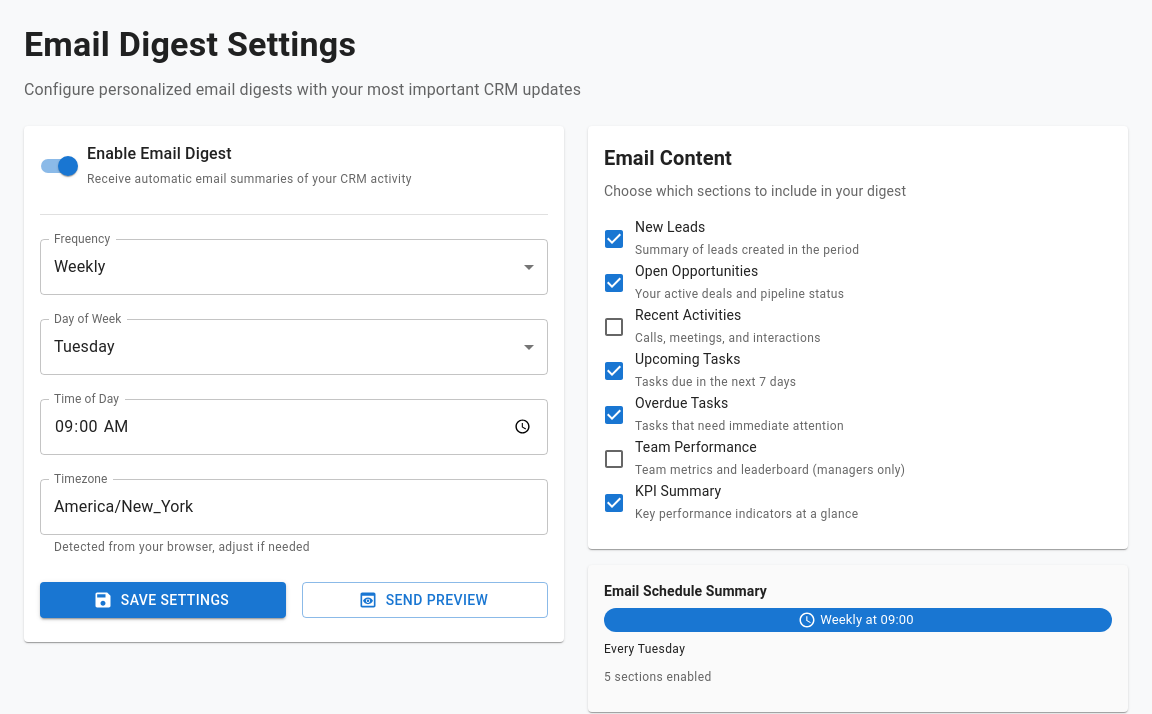
it: EmailDigestPage › saves the config via the backend when Save Settings is clicked
The width and height of the screenshot is (1152, 714).
Click the button "Save Settings".
click(163, 600)  # box [40,582,286,618]
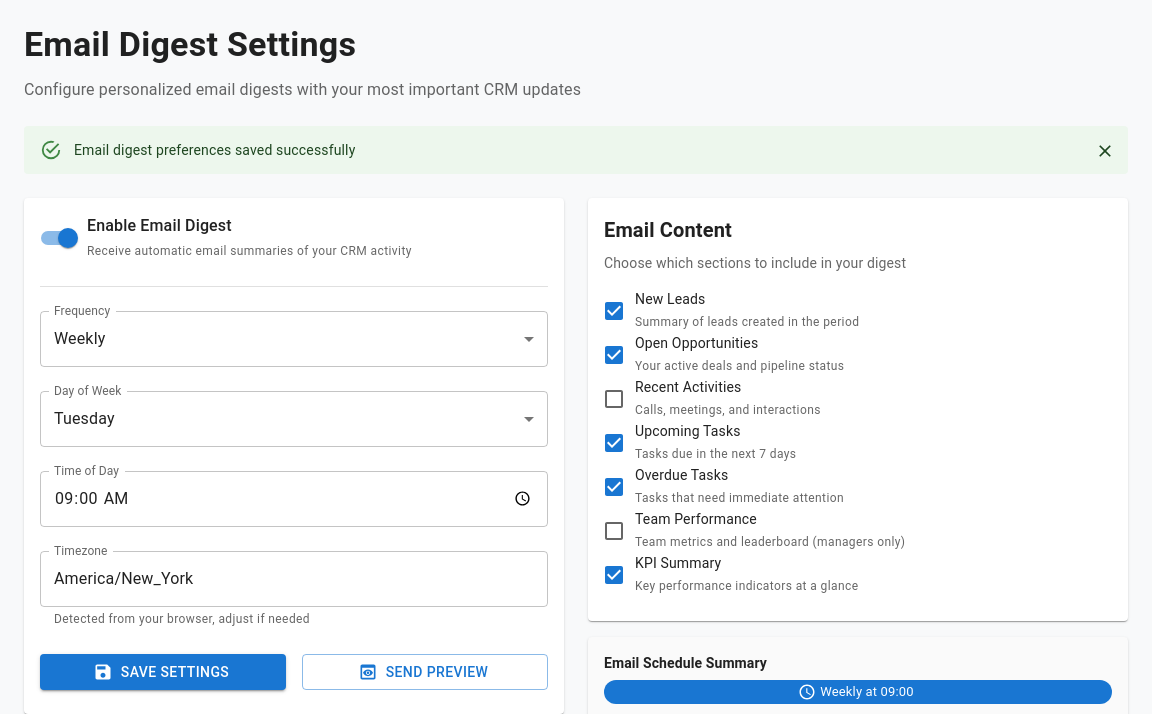
Result: the text "Email digest preferences saved successfully" is shown at [74,142,355,158]
